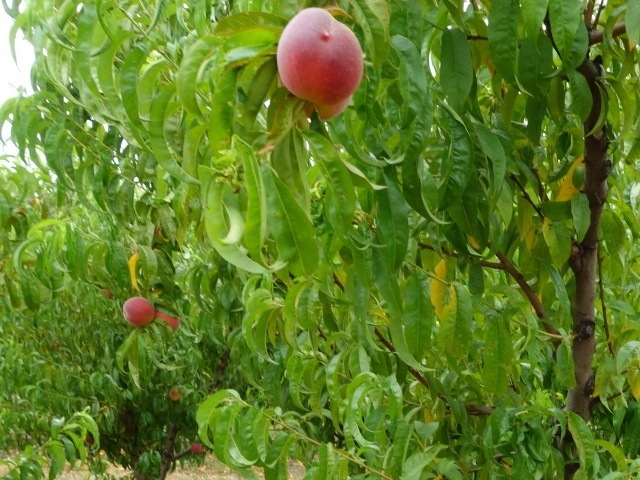peach: (272, 4, 368, 111), (276, 78, 361, 123), (118, 295, 159, 329), (146, 300, 183, 336)
